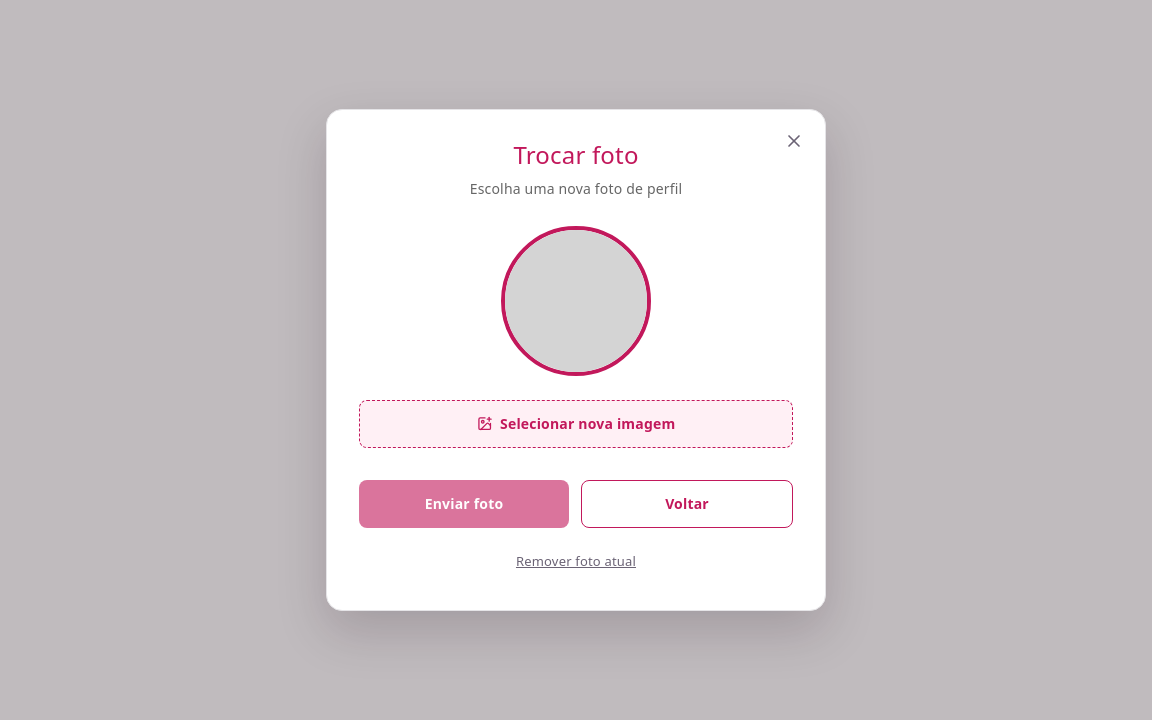
ChangePhoto › com foto atual permite removê-la
The image size is (1152, 720).
Click the button "Remover foto atual" at [576, 561], box left=508, top=544, right=644, bottom=578
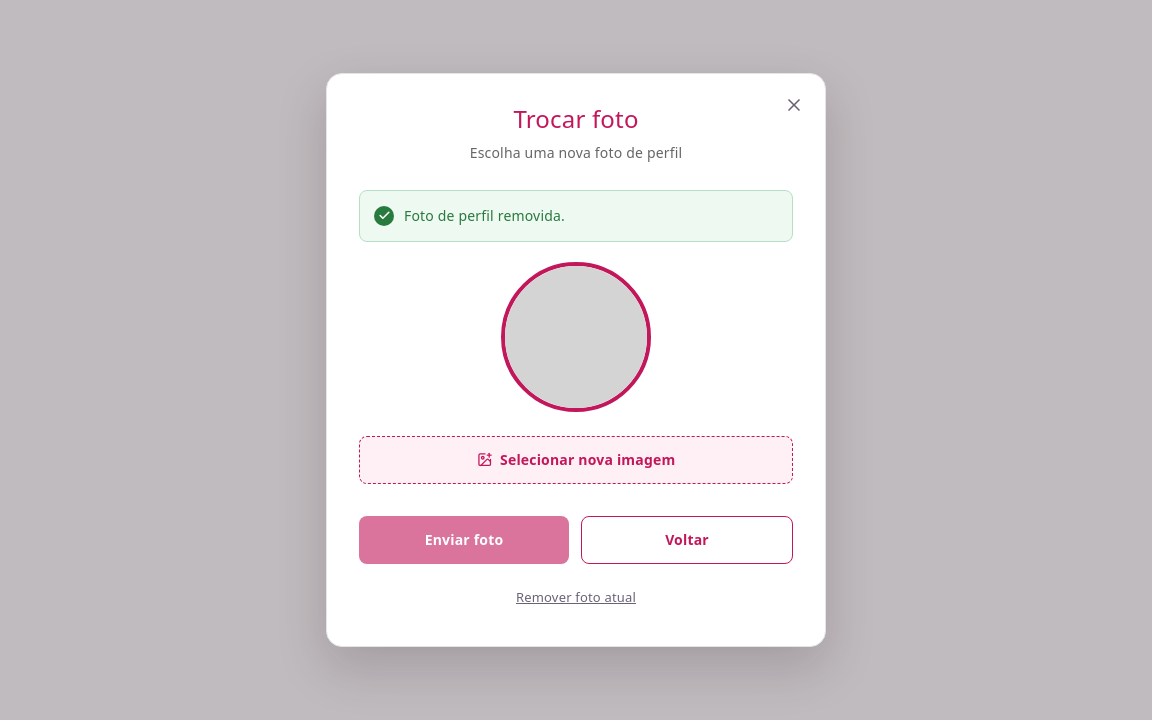
expect the message reads "Foto de perfil removida.": met, box left=404, top=206, right=565, bottom=225
